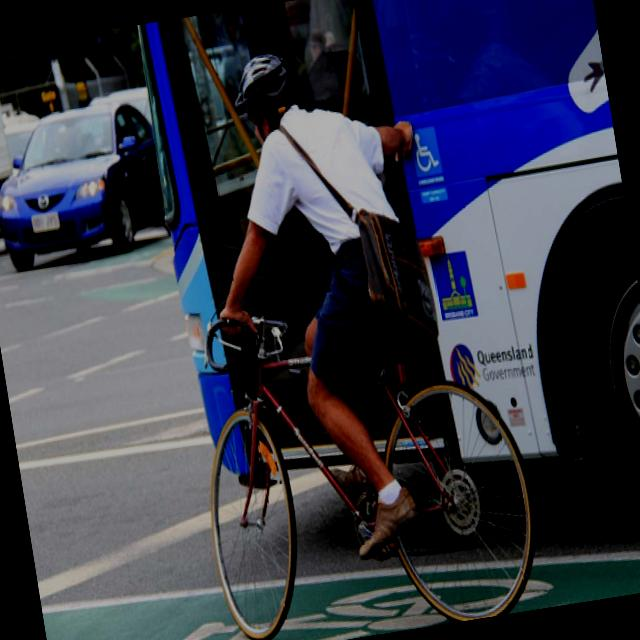Vehicle: (138, 0, 640, 610), (0, 94, 173, 278), (0, 115, 53, 240), (0, 47, 28, 264)
